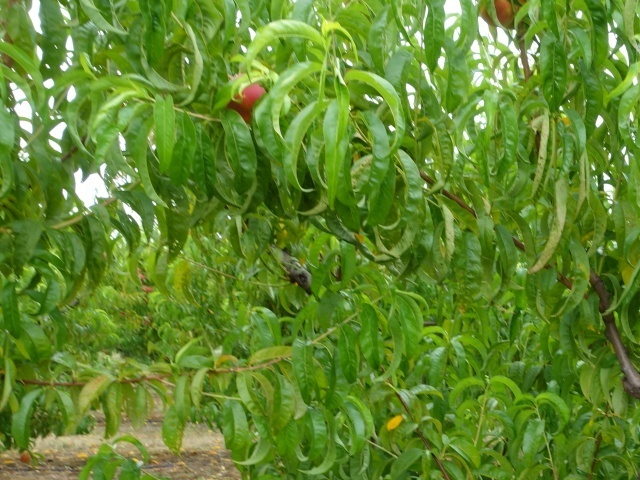peach: (219, 73, 273, 124), (473, 1, 531, 32)
